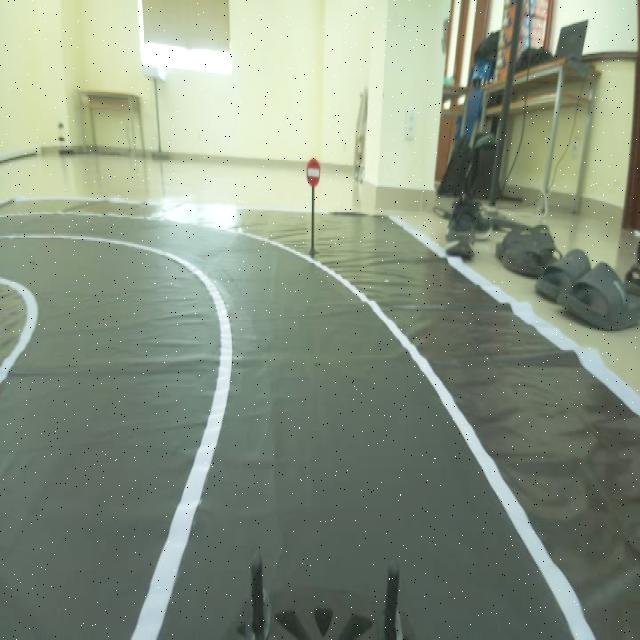no_entry: (303, 154, 327, 196)
